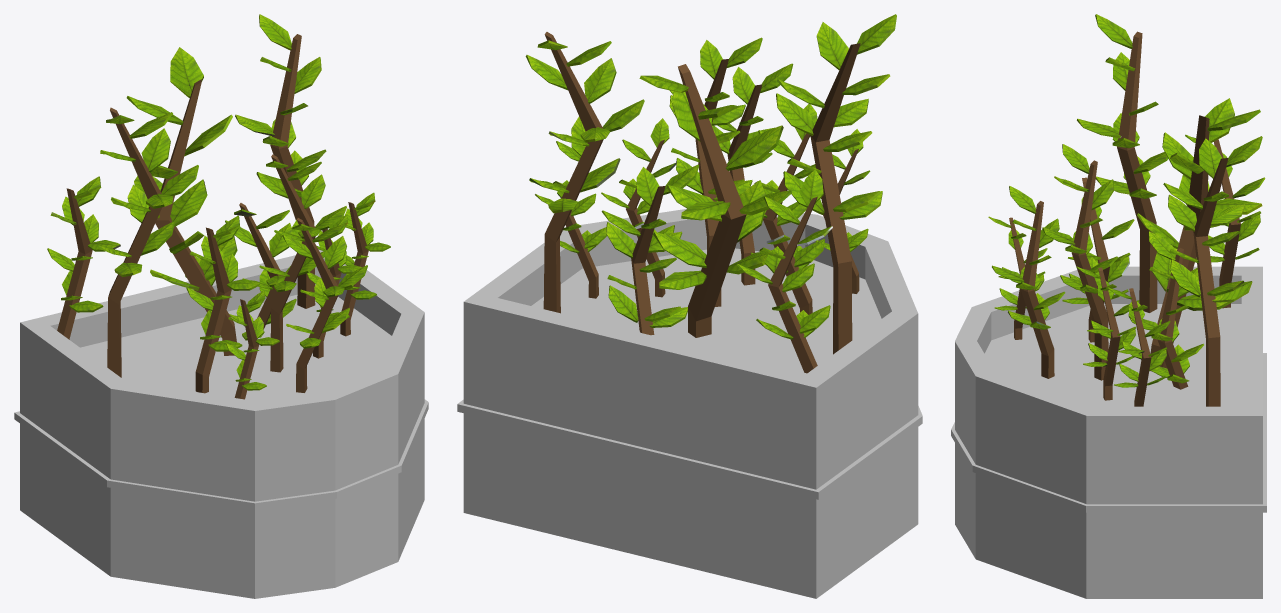
The model's file is planta.fbx.
The picture shows the model from 3 angles, left to right: view 1: azimuth 30°, elevation 25°; view 2: azimuth 150°, elevation 25°; view 3: azimuth 270°, elevation 25°; orthographic projection. The views are drawn at different scales.
Parts seen in each view (by area): view 1: Cube; view 2: Cube; view 3: Cube.
Boxes of the visible parts, x1,y1,x2,y2 form: Cube: (14,14,428,598); Cube: (457,14,922,598); Cube: (951,14,1266,598).
Size of the model in its own units: 41.07 by 55.44 by 35.84.
